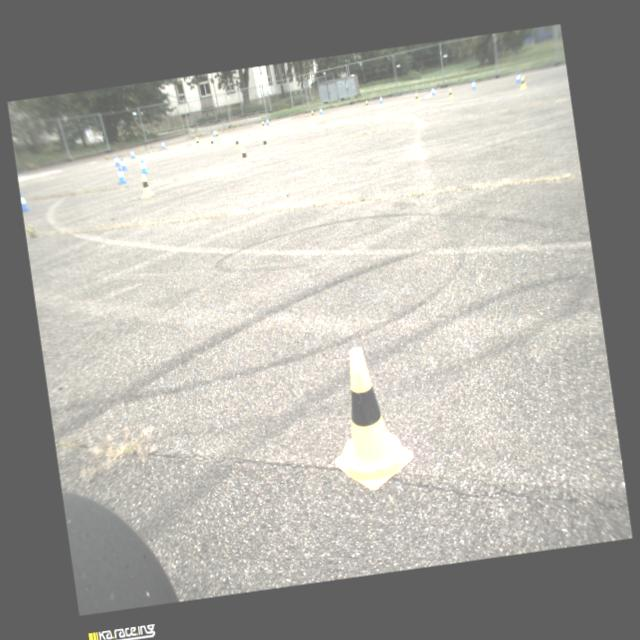blue_cone: (20, 190, 31, 211), (116, 166, 128, 184), (140, 158, 150, 174), (112, 154, 121, 168), (119, 157, 128, 171), (159, 140, 167, 150), (516, 72, 522, 84), (130, 148, 136, 159), (430, 86, 436, 96), (471, 80, 476, 90), (318, 107, 324, 115), (379, 95, 384, 104), (212, 129, 216, 137), (266, 117, 270, 125)
yellow_cone: (320, 342, 418, 494), (138, 173, 154, 199), (238, 146, 252, 166), (260, 134, 272, 152), (233, 136, 242, 150), (209, 136, 217, 149), (519, 76, 527, 89), (447, 88, 454, 100), (195, 136, 201, 148), (214, 130, 221, 140), (260, 120, 266, 130), (310, 110, 316, 120), (364, 100, 370, 110), (414, 92, 419, 104)
